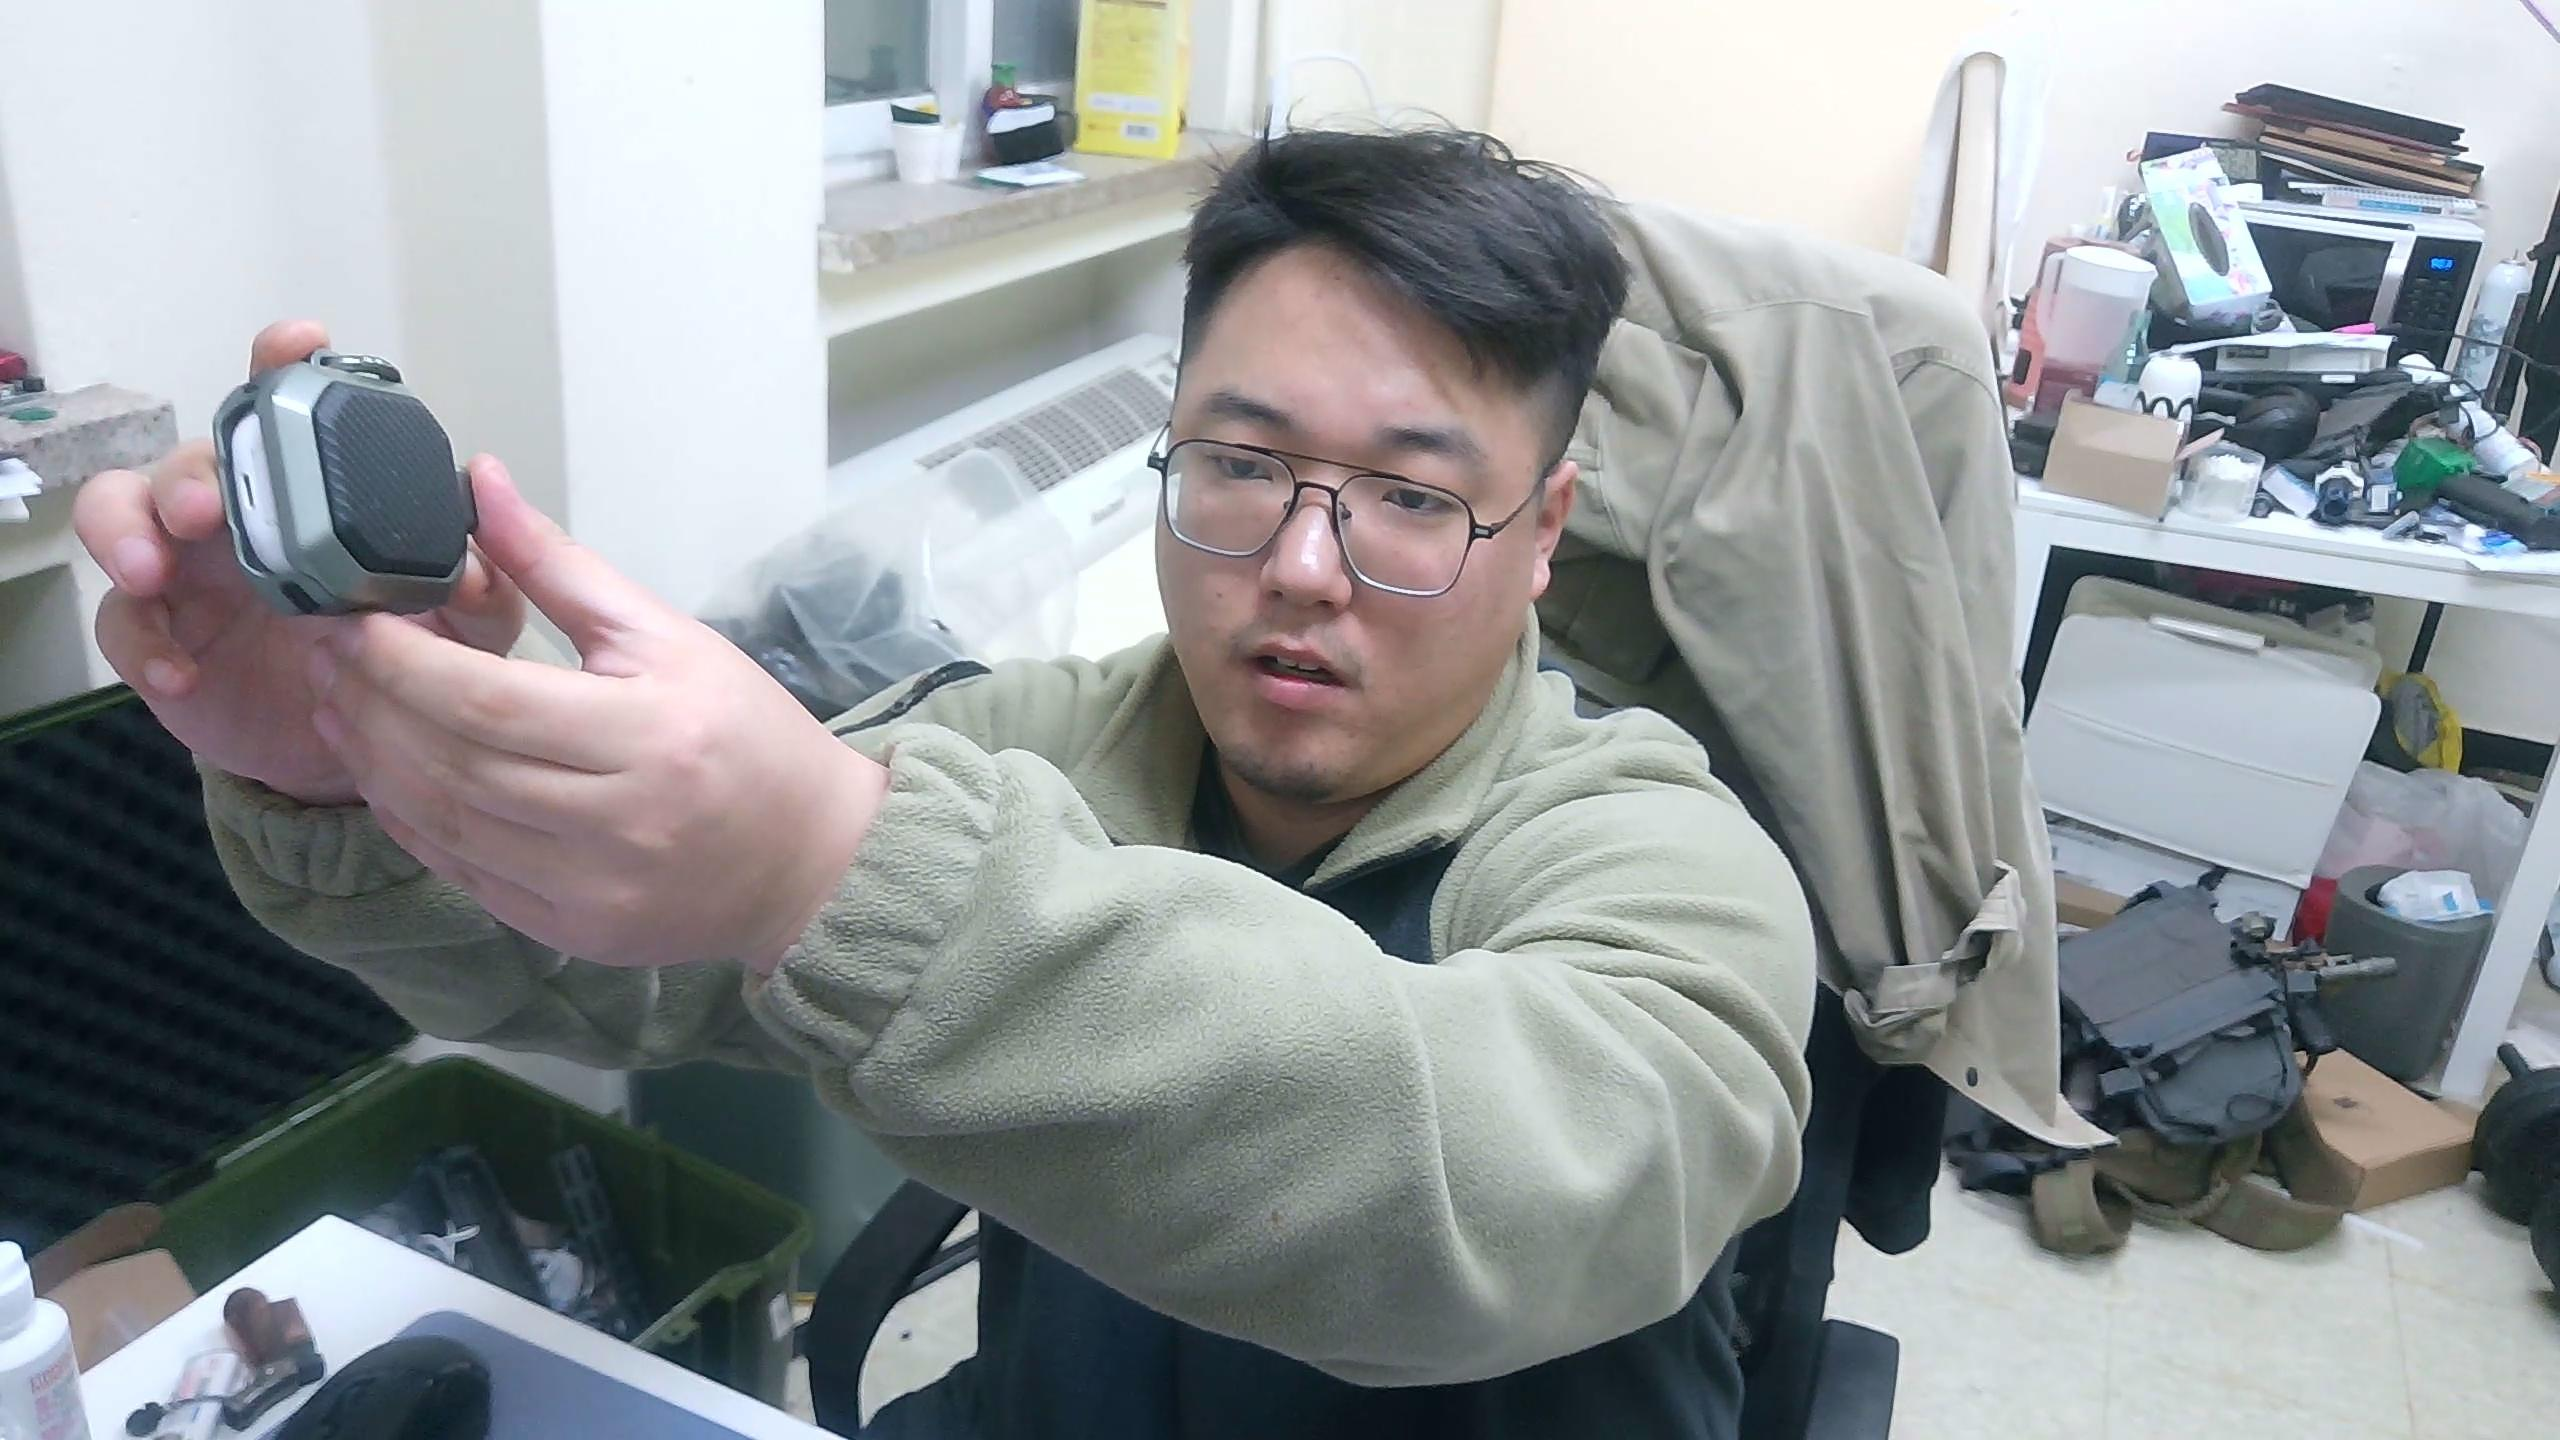blue_pliers: (211, 346, 478, 621)
